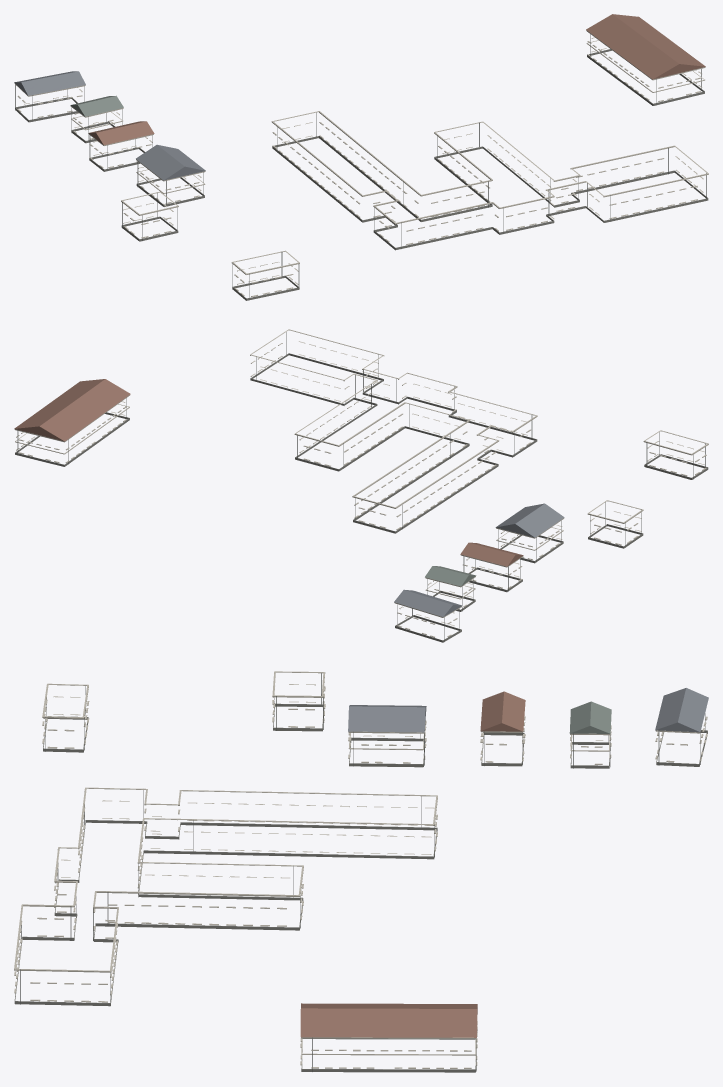
Rendered from district_1_-1.glb.
The picture shows the model from 3 angles, top to bottom: view 1: azimuth 30°, elevation 25°; view 2: azimuth 150°, elevation 25°; view 3: azimuth 270°, elevation 25°; orthographic projection. The views are drawn at different scales.
Parts seen in each view (by area): view 1: MasonryTrim, RoofMetal, MetalDetails; view 2: MasonryTrim, RoofMetal, MetalDetails; view 3: MasonryTrim, RoofMetal, MetalDetails.
Boxes of the visible parts, x1,y1,x2,y2 form: MasonryTrim: (14, 30, 708, 300); RoofMetal: (14, 14, 705, 180); MetalDetails: (15, 33, 706, 299); MasonryTrim: (14, 329, 708, 642); RoofMetal: (14, 379, 564, 616); MetalDetails: (17, 332, 705, 641); MasonryTrim: (14, 671, 707, 1072); RoofMetal: (300, 688, 708, 1037); MetalDetails: (20, 673, 705, 1071).
Bounding box in the file's own units: 169 × 10.1 × 135.
